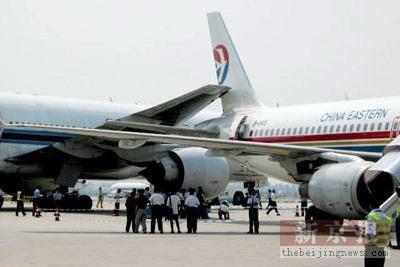airplane: (1, 10, 400, 200)
